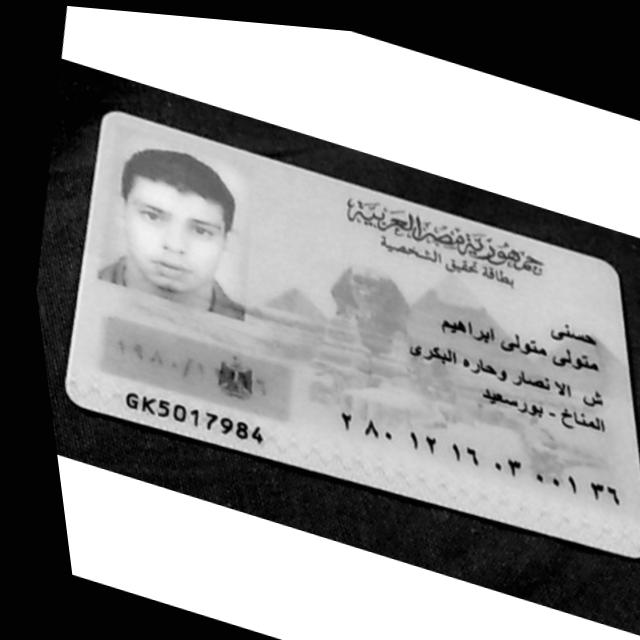id_card: (63, 108, 640, 554)
